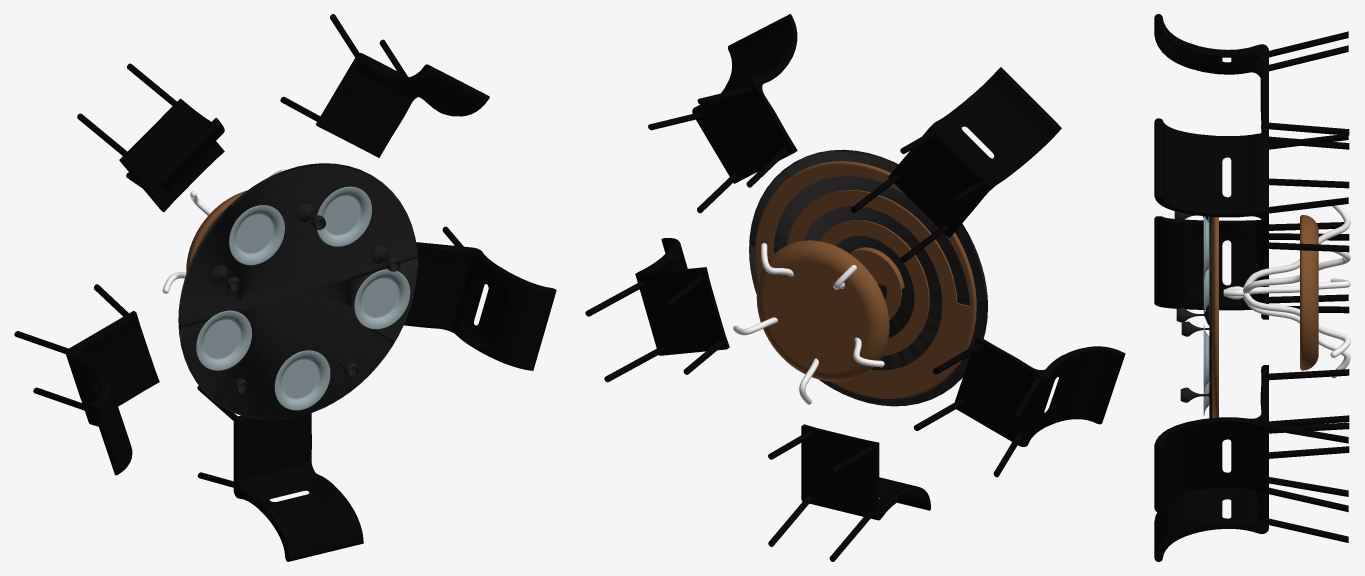
Rendered from chair v11.fbx.
3 views of the same model, side by side, from view 1: azimuth 30°, elevation 25°; view 2: azimuth 150°, elevation 25°; view 3: azimuth 270°, elevation 25° (orthographic). The views are drawn at different scales.
Visible parts, largest first — view 1: Body45, Body1, Body47, Body48, Body50, Body49, Body56, Body51, Body58, Body57, Body59, Body46; view 2: Body38, Body49, Body45, Body46, Body50, Body48, Body1, Body47, Body42; view 3: Body48, Body47, Body50, Body1, Body49, Body42, Body46, Body38, Body45, Body57, Body59, Body63 (+1 smaller).
Part boxes in pixels (x1=…): Body45: x1=178, y1=163, x2=417, y2=420; Body1: x1=197, y1=385, x2=363, y2=561; Body47: x1=404, y1=226, x2=556, y2=370; Body48: x1=280, y1=14, x2=489, y2=157; Body50: x1=14, y1=284, x2=159, y2=475; Body49: x1=77, y1=63, x2=224, y2=212; Body56: x1=274, y1=350, x2=330, y2=410; Body51: x1=196, y1=310, x2=251, y2=370; Body58: x1=229, y1=205, x2=284, y2=265; Body57: x1=354, y1=269, x2=410, y2=329; Body59: x1=317, y1=186, x2=371, y2=246; Body46: x1=186, y1=190, x2=246, y2=273; Body38: x1=755, y1=161, x2=976, y2=398; Body49: x1=851, y1=67, x2=1061, y2=262; Body45: x1=749, y1=149, x2=987, y2=406; Body46: x1=756, y1=240, x2=889, y2=381; Body50: x1=913, y1=336, x2=1125, y2=477; Body48: x1=648, y1=14, x2=797, y2=213; Body1: x1=768, y1=424, x2=930, y2=561; Body47: x1=585, y1=238, x2=729, y2=382; Body42: x1=733, y1=243, x2=884, y2=404; Body48: x1=1154, y1=118, x2=1349, y2=254; Body47: x1=1154, y1=365, x2=1349, y2=511; Body50: x1=1154, y1=216, x2=1349, y2=319; Body1: x1=1154, y1=415, x2=1349, y2=561; Body49: x1=1154, y1=14, x2=1349, y2=149; Body42: x1=1223, y1=205, x2=1350, y2=378; Body46: x1=1300, y1=215, x2=1318, y2=370; Body38: x1=1212, y1=217, x2=1218, y2=417; Body45: x1=1209, y1=216, x2=1212, y2=418; Body57: x1=1203, y1=326, x2=1209, y2=391; Body59: x1=1203, y1=216, x2=1209, y2=277; Body63: x1=1176, y1=305, x2=1209, y2=324.
Bounding box in the file's own units: 83.07 × 79.15 × 29.57.
